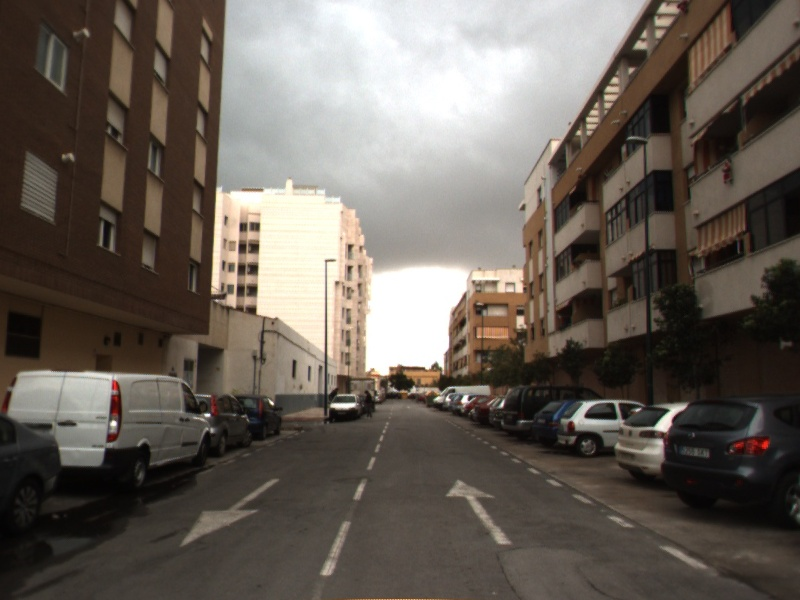STRAIGHT: (443, 477, 514, 546)
